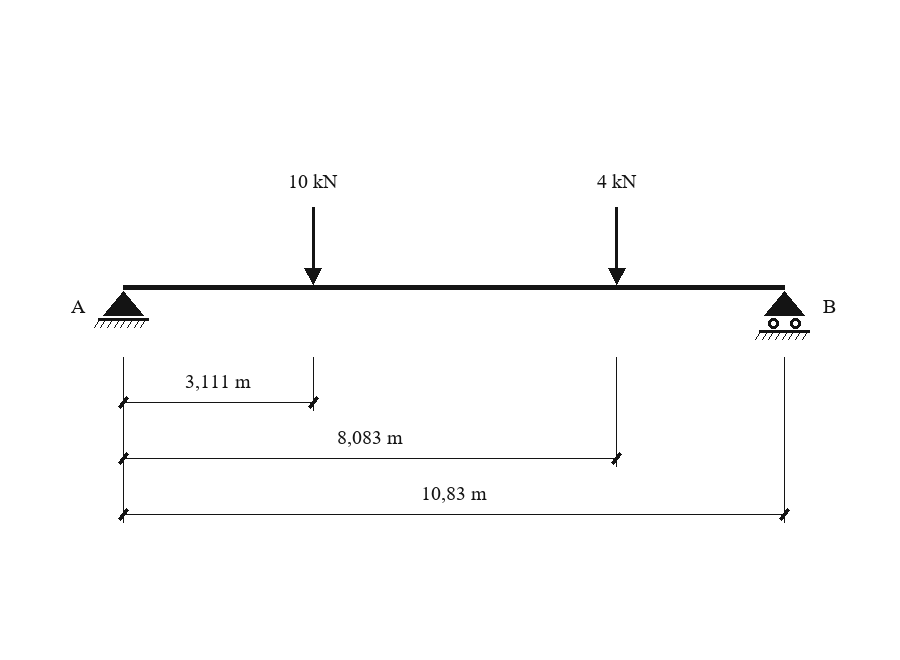pin_support: (94, 291, 149, 328)
point_load: (304, 207, 322, 285), (608, 207, 626, 285)
roller_support: (755, 291, 810, 340)
